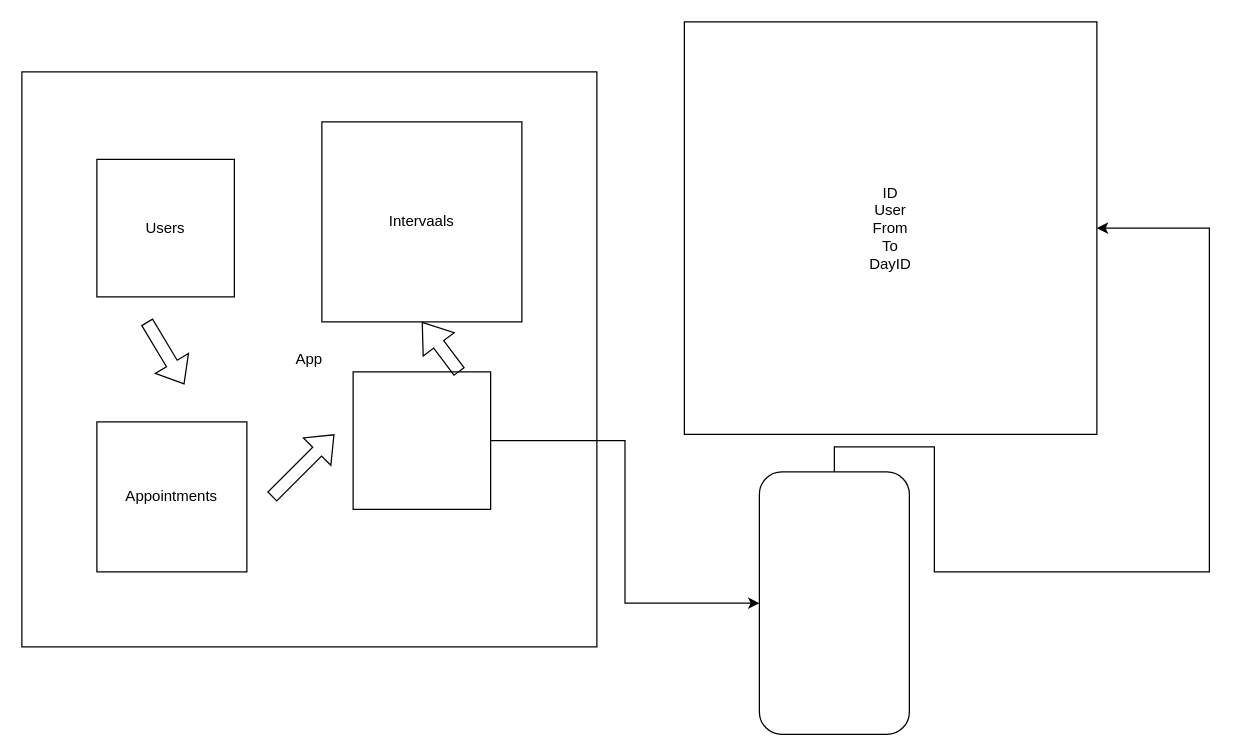
Image size: 1241x756. Some labels were removed from this diagram. The centre of each missing label's shape, as x and y in pixels:
"Date id active" belongs at (833,602).
"Days" belongs at (421,440).
